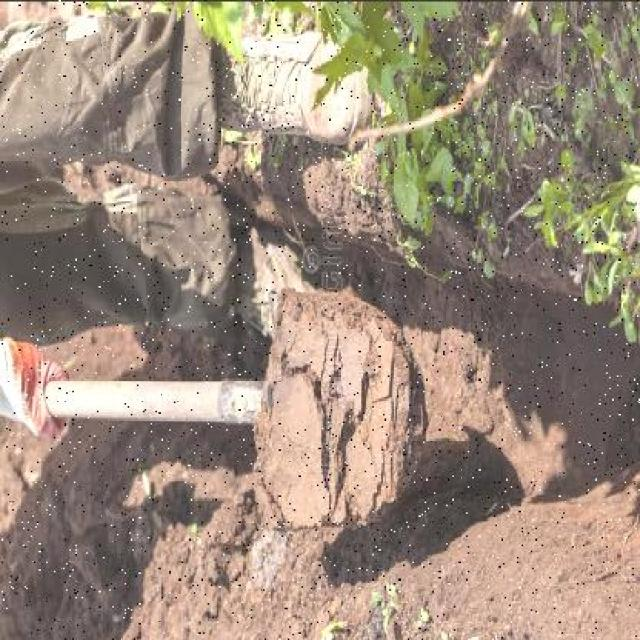shoes: (216, 12, 376, 152)
